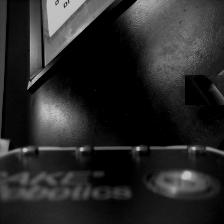Door Handle: (189, 70, 224, 110)
